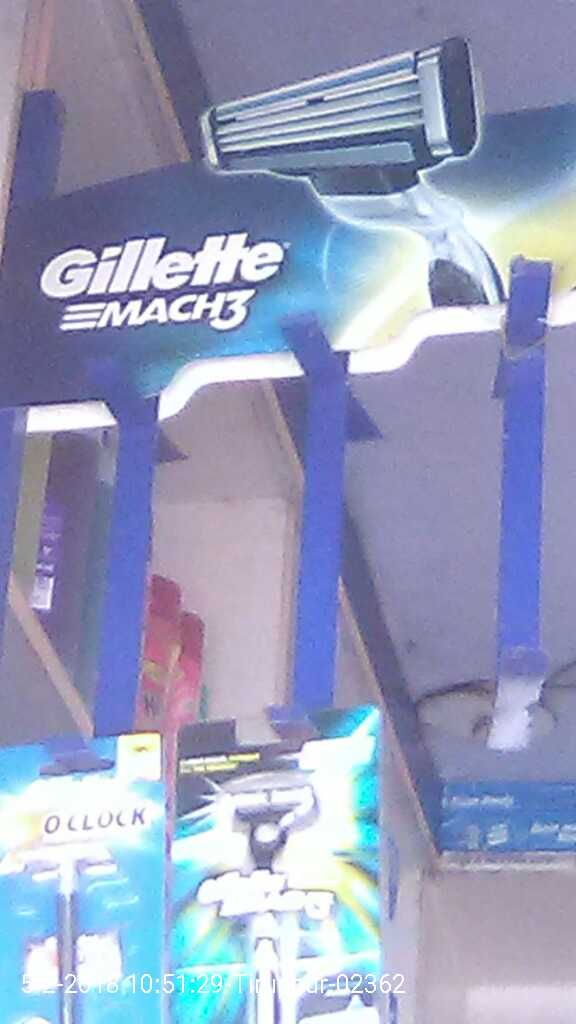gillette: (180, 742, 340, 1024)
